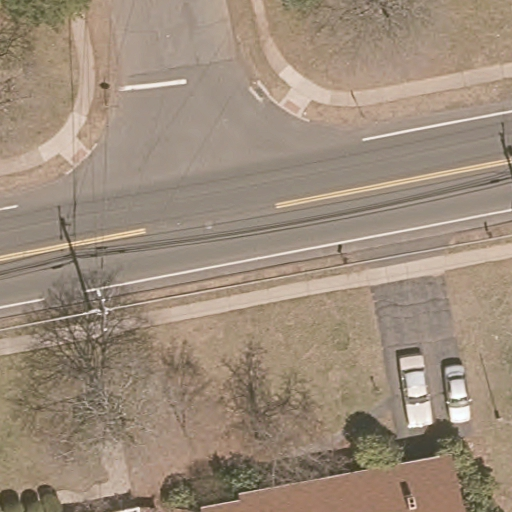DT: (84, 286, 113, 338)
